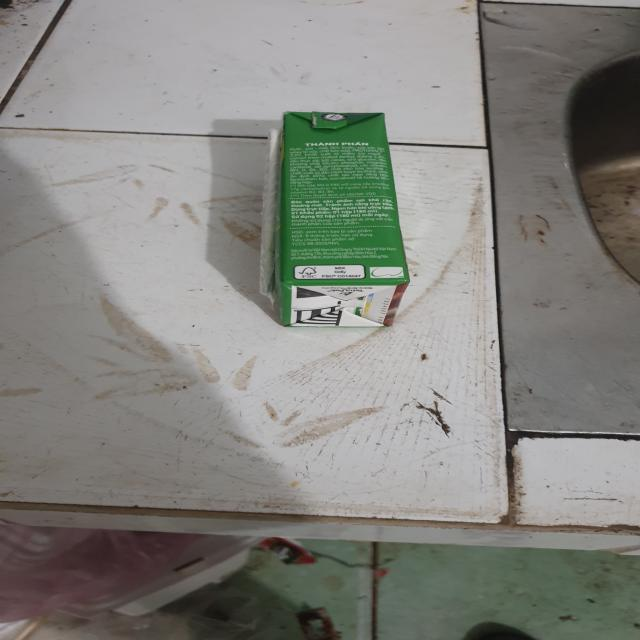Milo: (258, 111, 410, 339)
